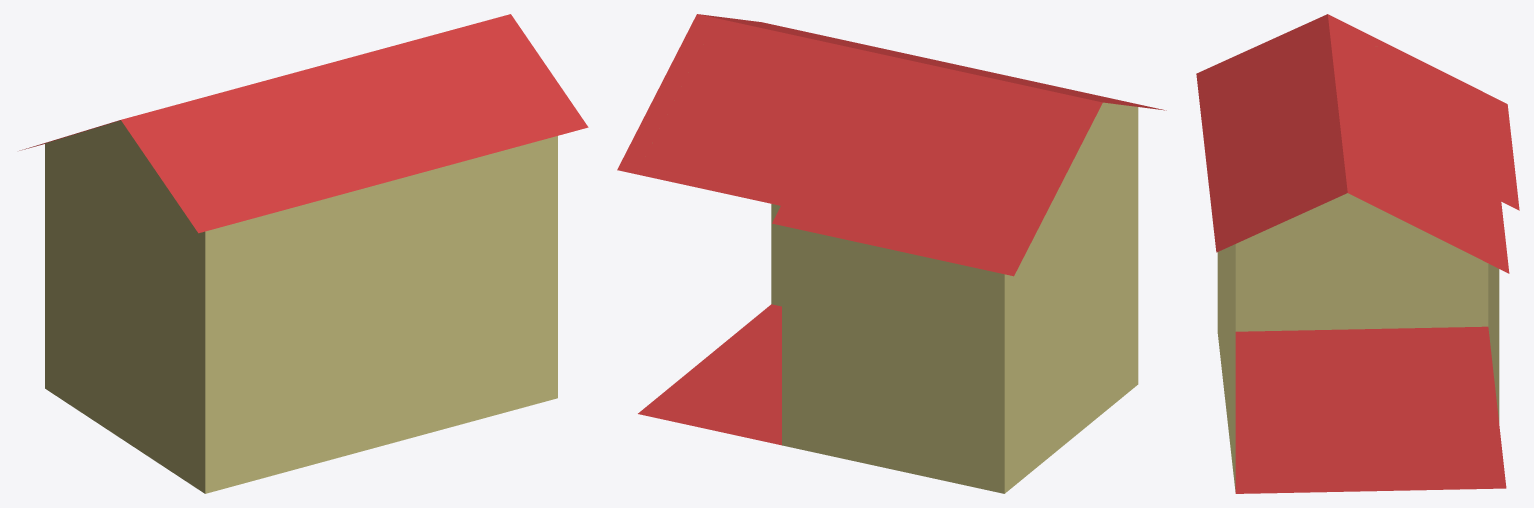
3 renders of one model, left to right at view 1: azimuth 30°, elevation 25°; view 2: azimuth 150°, elevation 25°; view 3: azimuth 270°, elevation 25°, orthographic. The views are drawn at different scales.
Size of the model in its own units: 10.79 by 7.96 by 8.35.
